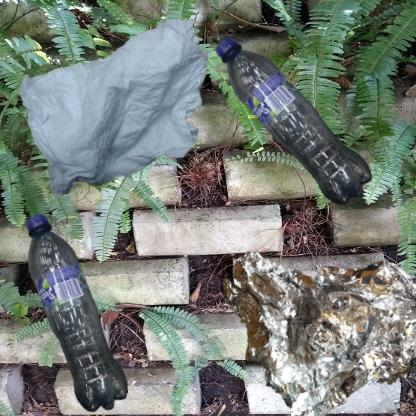aluminio: (213, 213, 416, 416)
botella: (213, 10, 398, 256), (10, 213, 146, 416)
papel: (10, 10, 256, 219)
